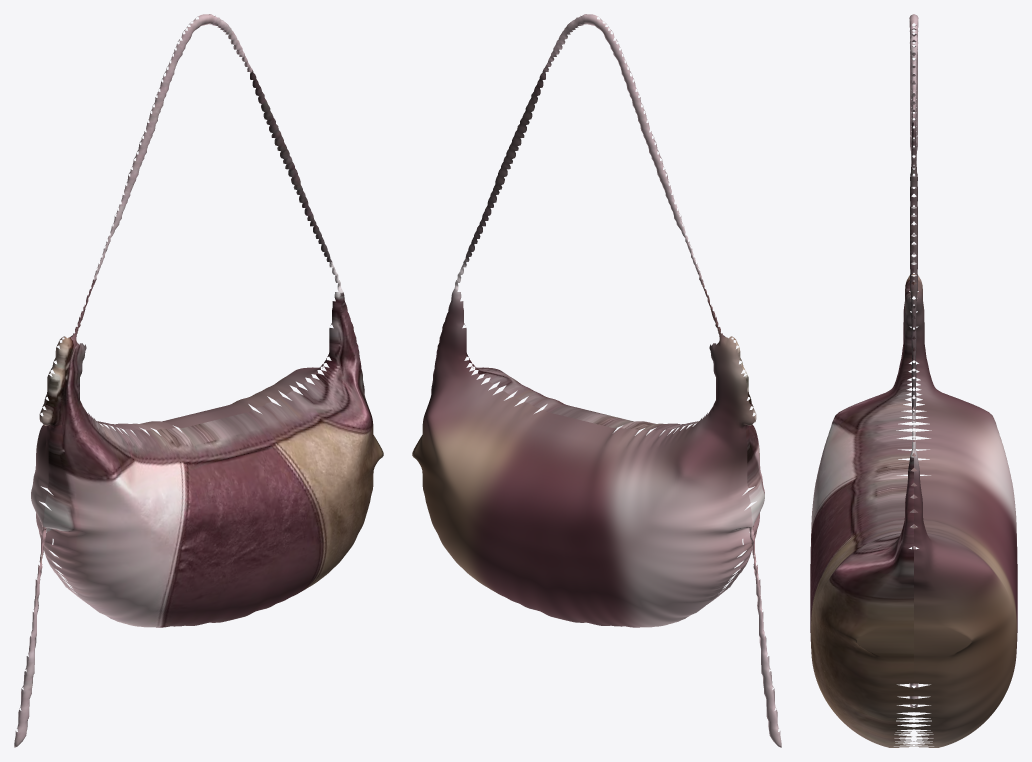
File: musa-tricolor-garnet.glb
The picture shows the model from 3 angles, left to right: view 1: azimuth 30°, elevation 25°; view 2: azimuth 150°, elevation 25°; view 3: azimuth 270°, elevation 25°; orthographic projection. The views are drawn at different scales.
Parts seen in each view (by area): view 1: musa-tricolor-garnet; view 2: musa-tricolor-garnet; view 3: musa-tricolor-garnet.
Part boxes in pixels (box(x1,y1,x2,y2)): musa-tricolor-garnet: box(14, 14, 383, 747); musa-tricolor-garnet: box(412, 14, 781, 747); musa-tricolor-garnet: box(810, 14, 1017, 747).
Size of the model in its own units: 0.3103 by 0.5872 by 0.1376.
2 materials, 2 textured.
